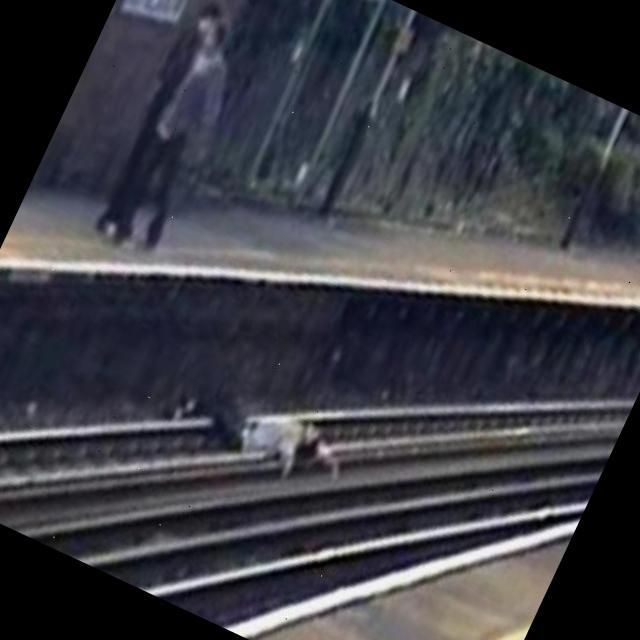person: (93, 0, 262, 288), (148, 339, 371, 538), (81, 0, 240, 257)
